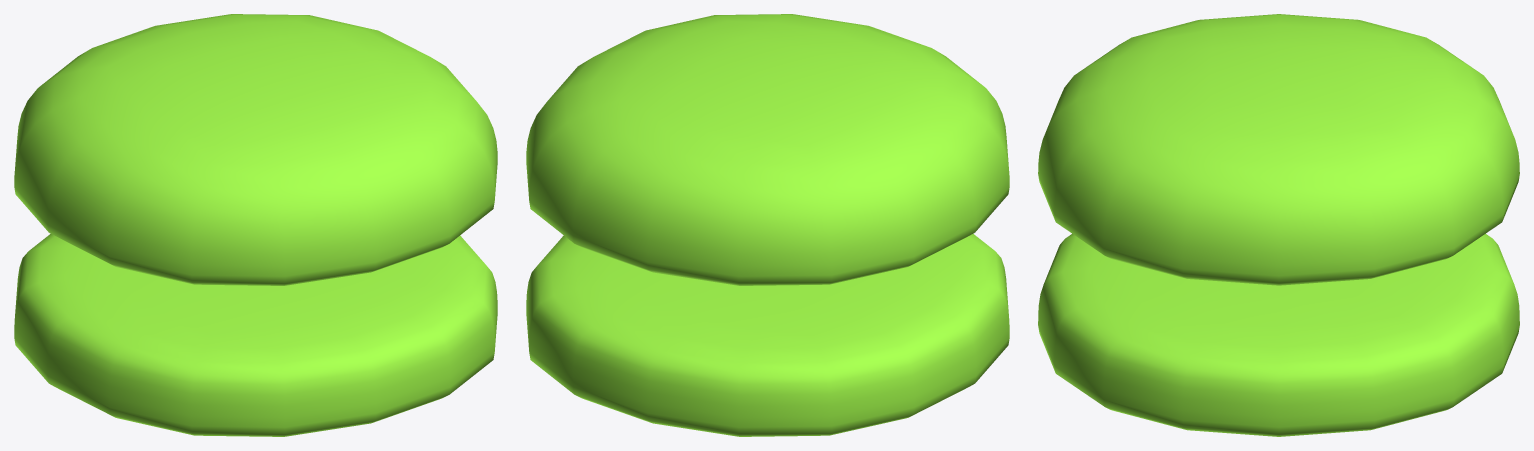
File: classic.gltf
3 views of the same model, side by side, from view 1: azimuth 30°, elevation 25°; view 2: azimuth 150°, elevation 25°; view 3: azimuth 270°, elevation 25° (orthographic).
Parts seen in each view (by area): view 1: Cube.001, Cube.002; view 2: Cube.001, Cube.002; view 3: Cube.001, Cube.002.
Part boxes in pixels (x1,y1,x2,y2): Cube.001: [14, 14, 497, 285]; Cube.002: [14, 234, 497, 436]; Cube.001: [526, 14, 1009, 285]; Cube.002: [526, 234, 1009, 436]; Cube.001: [1038, 14, 1519, 285]; Cube.002: [1038, 233, 1519, 436].
Size of the model in its own units: 1.83 by 1.16 by 1.83.
